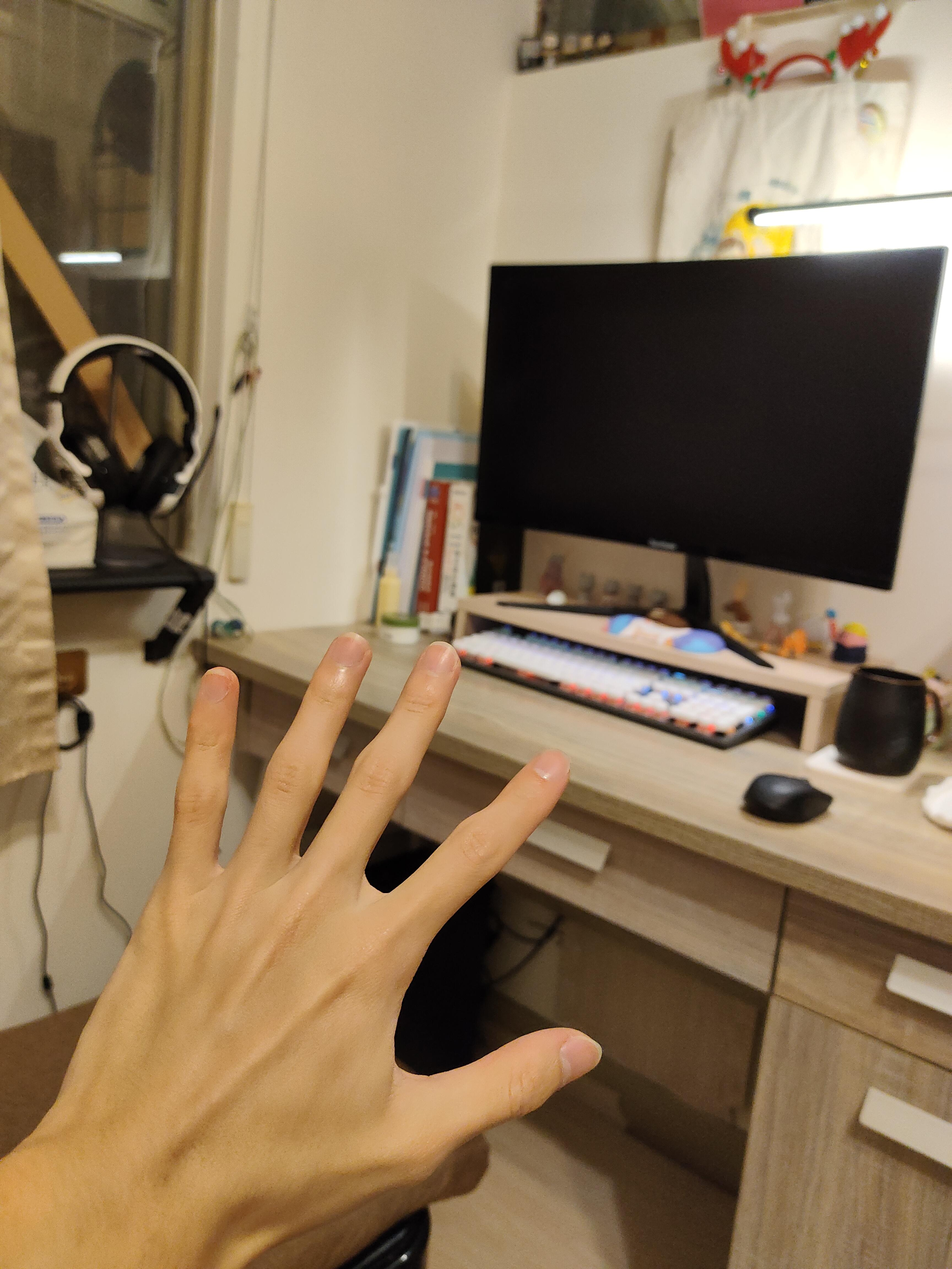palm: (50, 626, 604, 1223)
